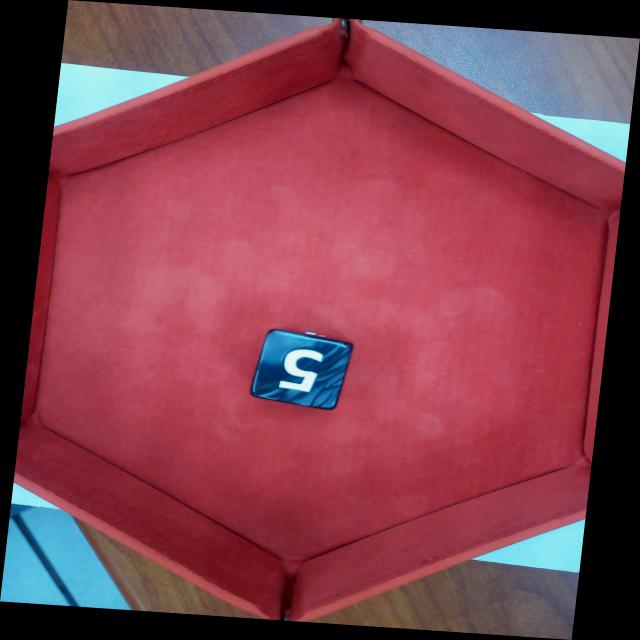dice: (251, 329, 357, 409)
